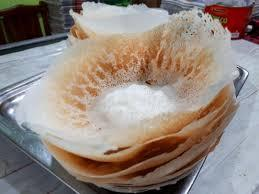Hoppers: (19, 23, 246, 187)
